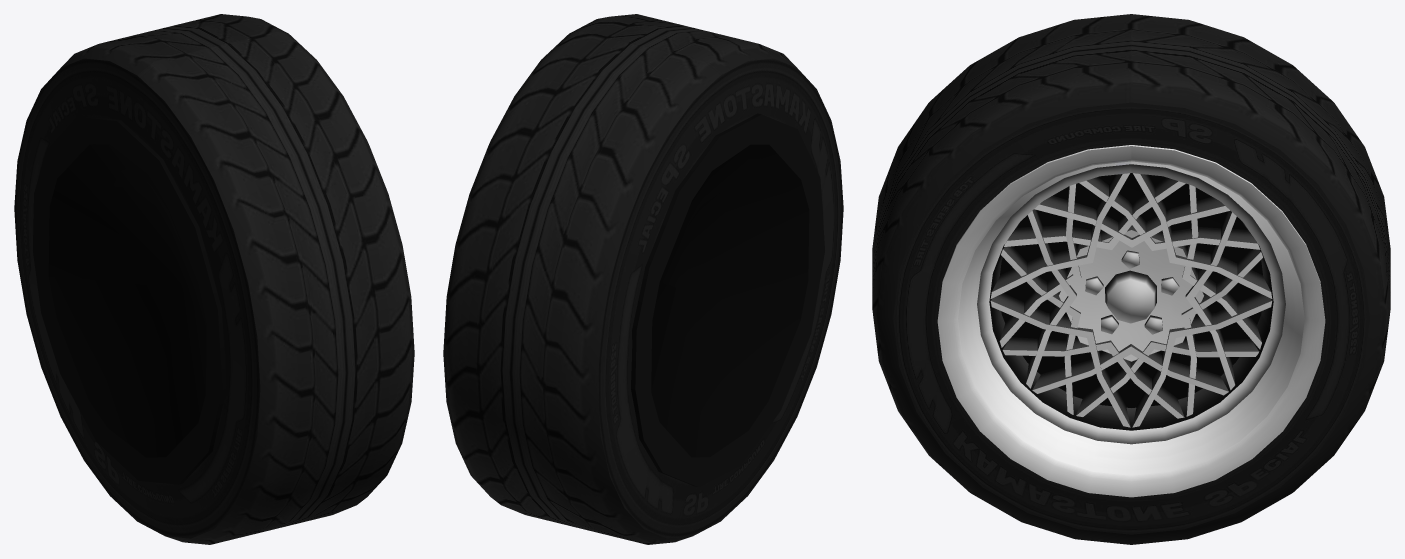
The model's file is wheel_FR.obj.
The picture shows the model from 3 angles, left to right: view 1: azimuth 30°, elevation 25°; view 2: azimuth 150°, elevation 25°; view 3: azimuth 270°, elevation 25°; orthographic projection.
Visible parts, largest first — view 1: Maureen67_WheelStock_FR_RB1c_Tire_1k_0; view 2: Maureen67_WheelStock_FR_RB1c_Tire_1k_0; view 3: Maureen67_WheelStock_FR_RB1c_Tire_1k_0.
Boxes of the visible parts, bbox=[...] form: Maureen67_WheelStock_FR_RB1c_Tire_1k_0: bbox=[14, 14, 414, 544]; Maureen67_WheelStock_FR_RB1c_Tire_1k_0: bbox=[443, 14, 843, 544]; Maureen67_WheelStock_FR_RB1c_Tire_1k_0: bbox=[872, 14, 1390, 544].
Bounding box in the file's own units: 0.2484 × 0.6327 × 0.6327.
Materials: 1 (1 with a texture image).
